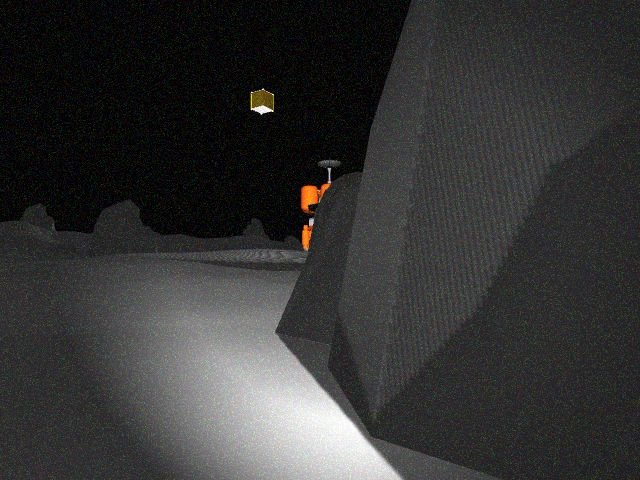cubesat: (248, 84, 280, 119)
